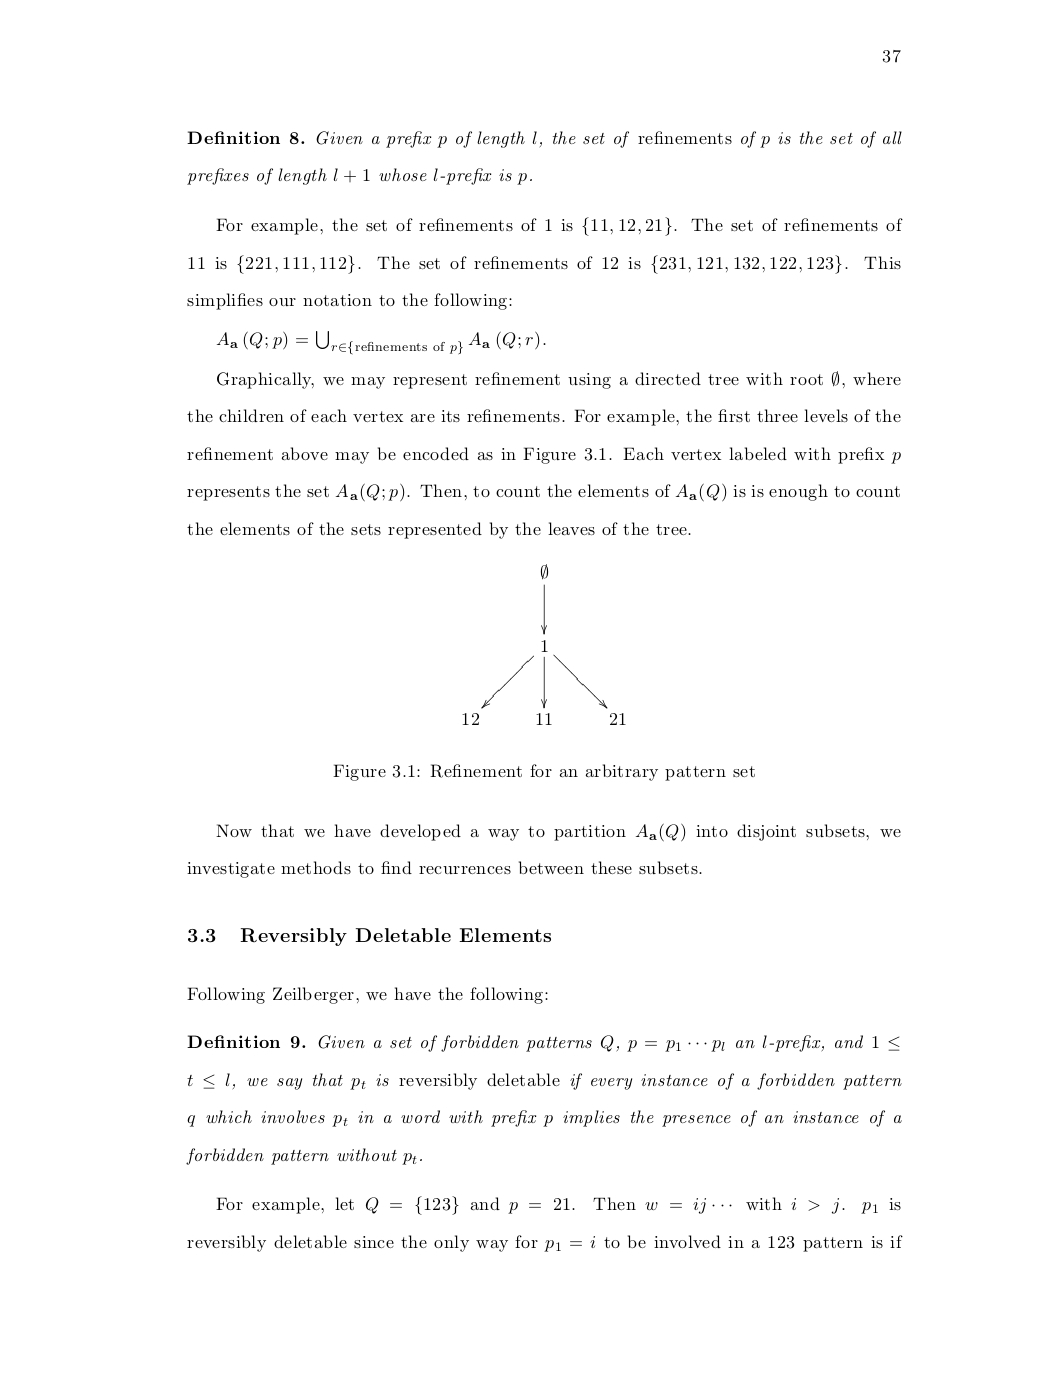figure: (463, 564, 625, 724)
formula: (216, 330, 545, 356)
